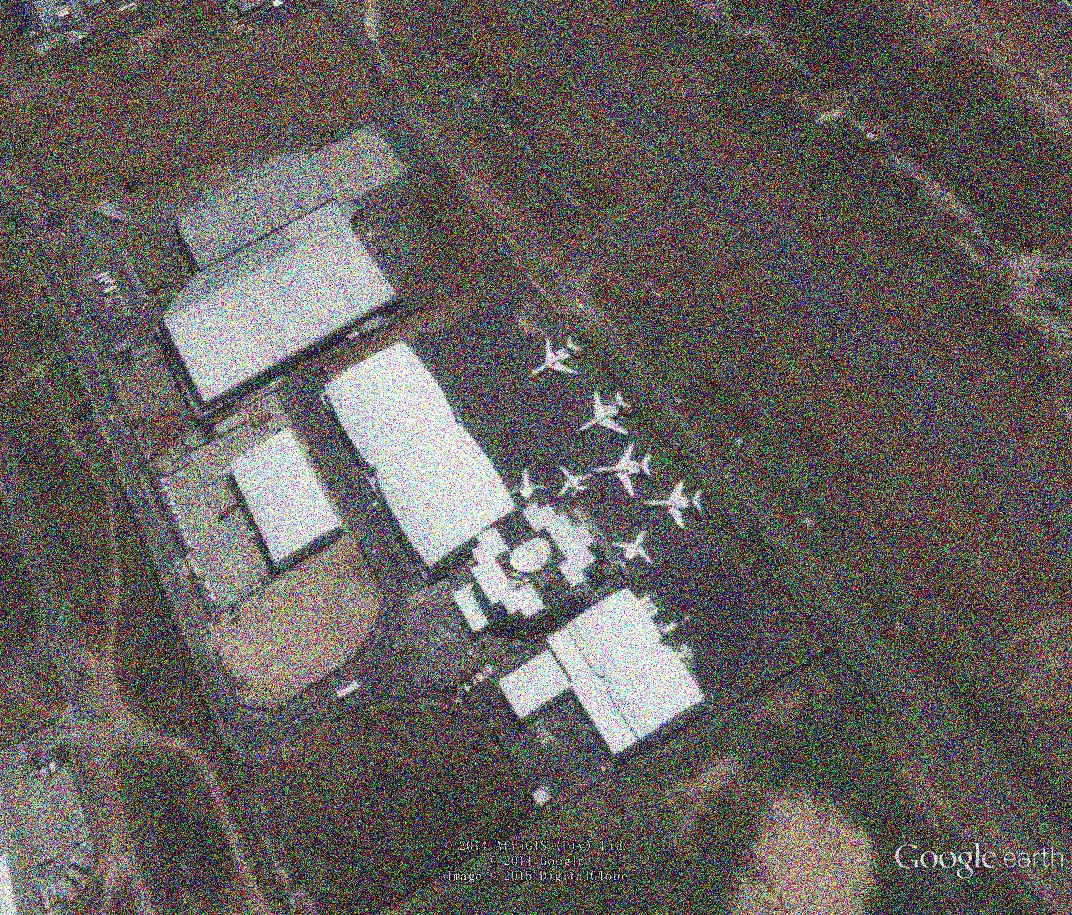aircraft: (591, 437, 657, 502), (639, 478, 708, 534), (573, 387, 638, 440), (524, 332, 589, 381), (610, 530, 659, 582), (507, 465, 551, 509), (552, 462, 598, 504)
